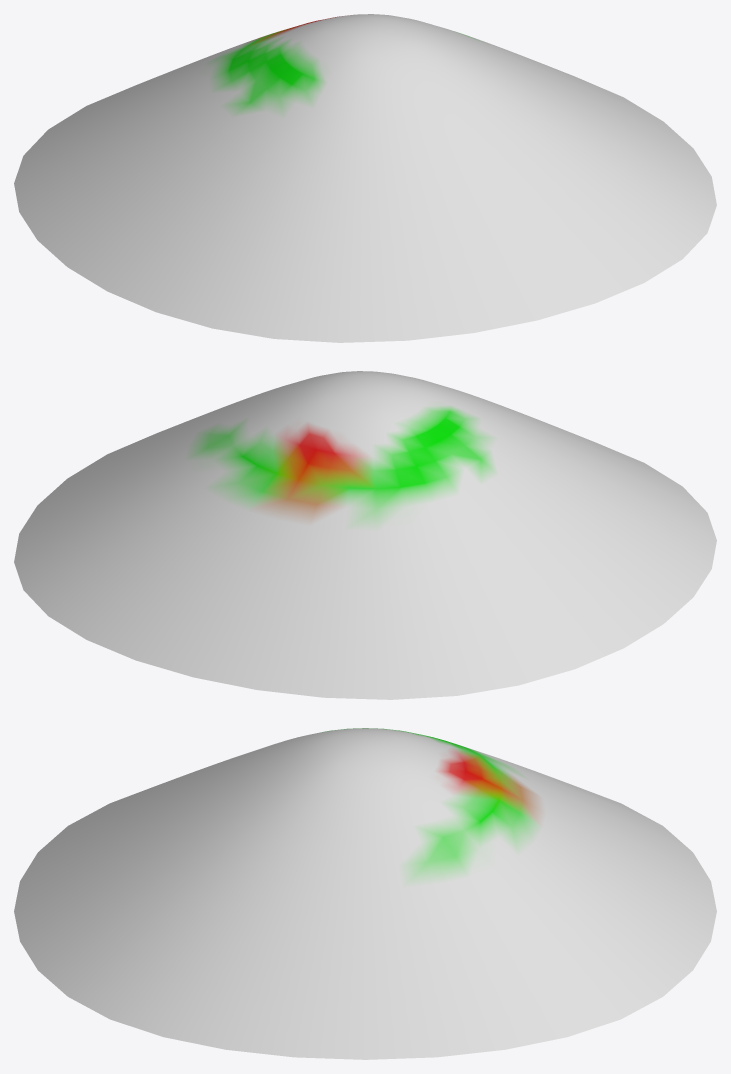
File: Terrain_01.fbx
3 renders of one model, top to bottom at view 1: azimuth 30°, elevation 25°; view 2: azimuth 150°, elevation 25°; view 3: azimuth 270°, elevation 25°, orthographic. The views are drawn at different scales.
Visible parts, largest first — view 1: Terrain_01; view 2: Terrain_01; view 3: Terrain_01.
Part boxes in pixels (x1,y1,x2,y2): Terrain_01: (14,14,716,342); Terrain_01: (14,371,716,699); Terrain_01: (14,728,716,1059).
Bounding box in the file's own units: 22.53 × 5.92 × 22.53.
